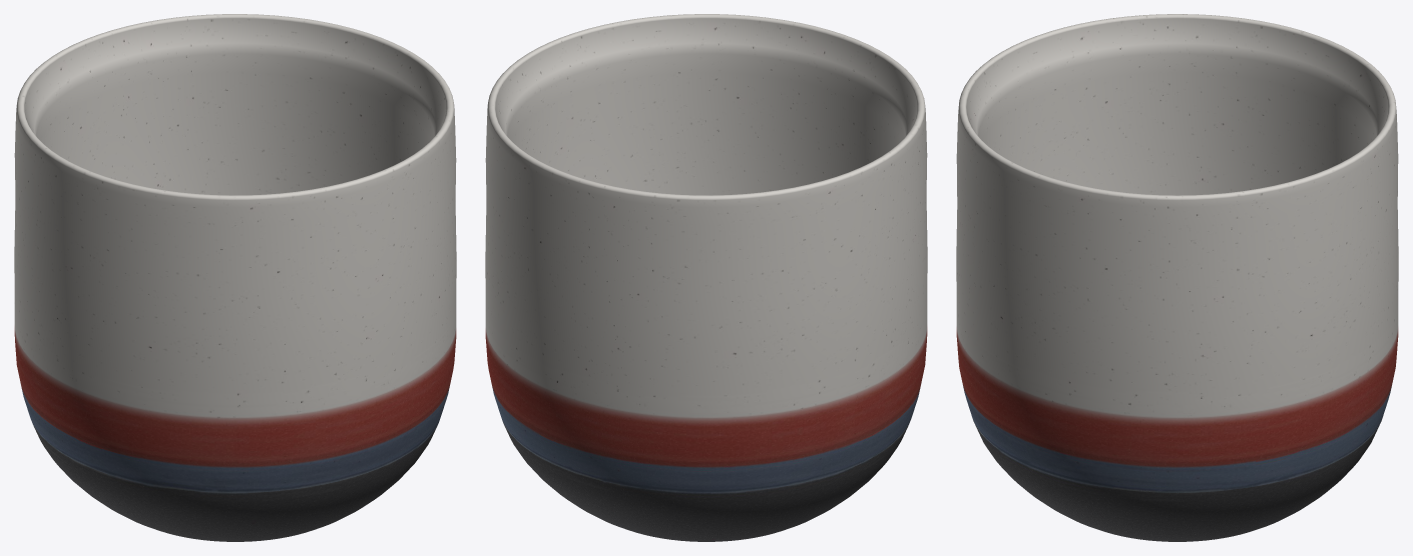
Rendered from planter_B07HSKBHBT.glb.
3 views of the same model, side by side, from view 1: azimuth 30°, elevation 25°; view 2: azimuth 150°, elevation 25°; view 3: azimuth 270°, elevation 25° (orthographic).
Visible parts, largest first — view 1: RootNode; view 2: RootNode; view 3: RootNode.
Boxes of the visible parts, bbox=[...] form: RootNode: bbox=[14, 14, 456, 541]; RootNode: bbox=[485, 14, 927, 541]; RootNode: bbox=[956, 14, 1398, 541].
Size of the model in its own units: 0.2684 by 0.2698 by 0.2684.
1 material, 1 textured.
